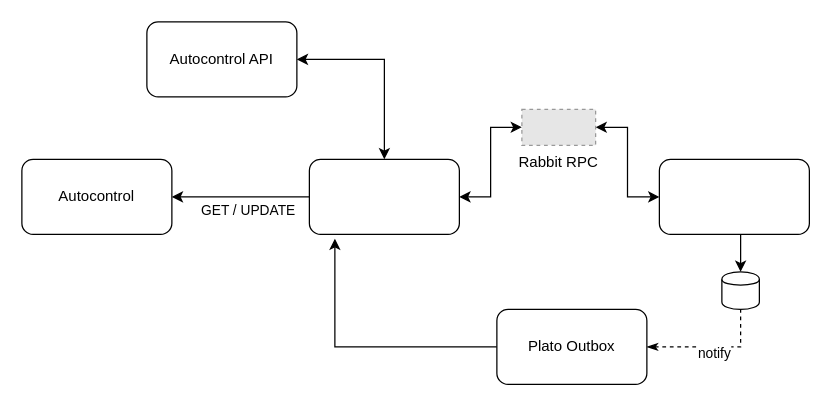
This 831x406 diagram has some shape labels left out. Grey dashed boxes stand in for pictures. The centre of each missing label's shape, as x and y in pixels:
"Autocontrol Proxy" goes at point (383, 196).
"Plato BackOffice" goes at point (733, 196).
